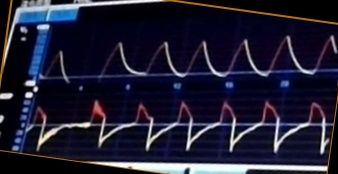Accumulation Flow: (35, 96, 326, 156)
Volume: (51, 30, 335, 84)
